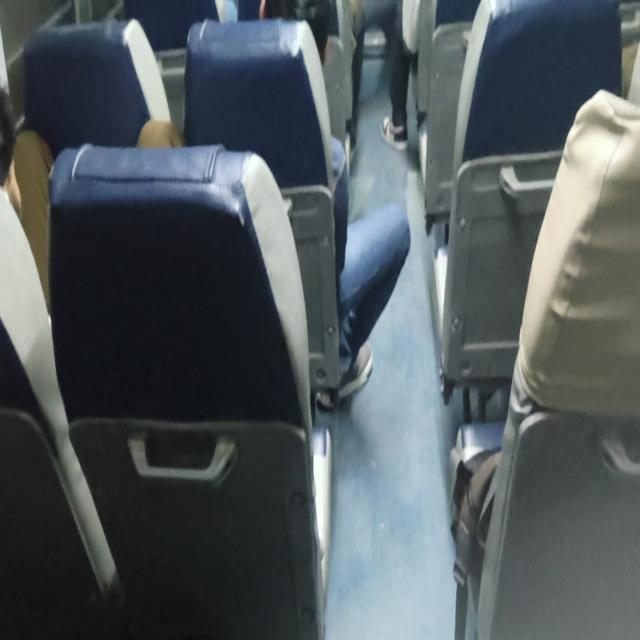person: (237, 0, 344, 72)
